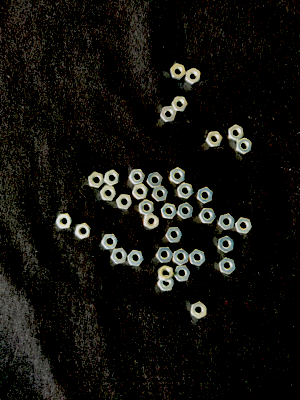nut: (190, 249, 207, 267), (191, 302, 208, 319), (219, 258, 236, 275), (218, 236, 235, 253), (177, 203, 194, 220), (161, 203, 178, 220), (147, 172, 164, 189), (161, 106, 178, 123), (156, 247, 174, 263), (56, 214, 74, 230), (170, 167, 186, 185), (174, 266, 191, 282), (158, 266, 175, 282), (111, 248, 128, 264), (102, 234, 119, 250), (173, 249, 189, 266), (75, 223, 92, 239), (166, 227, 183, 243), (144, 213, 160, 230), (236, 218, 253, 234), (219, 214, 236, 230), (116, 194, 133, 210), (198, 187, 214, 204), (178, 183, 195, 199), (152, 186, 169, 202), (129, 169, 146, 185), (104, 169, 120, 186), (88, 172, 105, 188), (229, 125, 245, 142), (207, 131, 224, 147), (186, 68, 202, 85), (170, 63, 186, 80), (199, 209, 217, 224), (128, 250, 144, 266), (139, 200, 155, 216), (133, 184, 149, 200), (100, 186, 117, 201), (237, 138, 252, 155), (172, 97, 189, 112), (158, 279, 175, 292)
